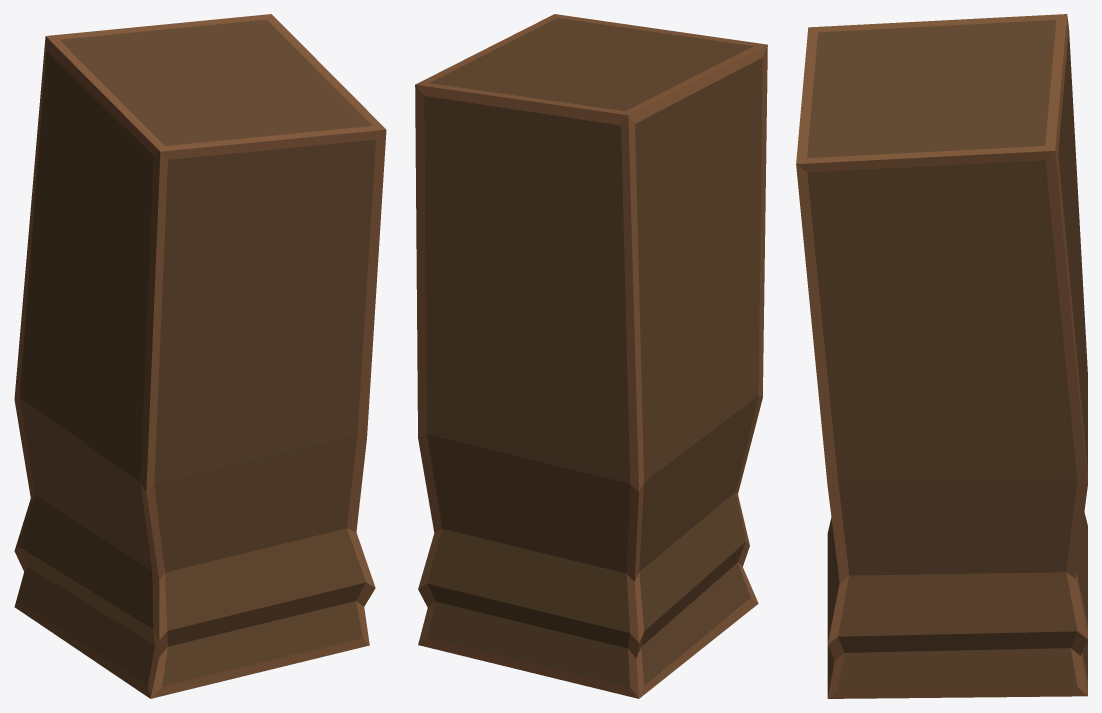
File: cargo-apocalypse-a.fbx
The picture shows the model from 3 angles, left to right: view 1: azimuth 30°, elevation 25°; view 2: azimuth 150°, elevation 25°; view 3: azimuth 270°, elevation 25°; orthographic projection. The views are drawn at different scales.
Visible parts, largest first — view 1: cargo-apocalypse-a; view 2: cargo-apocalypse-a; view 3: cargo-apocalypse-a.
Boxes of the visible parts, bbox=[...] form: cargo-apocalypse-a: bbox=[14, 14, 386, 698]; cargo-apocalypse-a: bbox=[415, 14, 767, 698]; cargo-apocalypse-a: bbox=[796, 14, 1087, 698].
Size of the model in its own units: 2.72 by 6.17 by 2.8.
